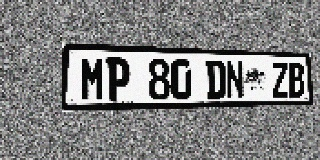0: (171, 59, 192, 100)
8: (148, 58, 170, 100)
B: (288, 62, 305, 97)
D: (206, 60, 225, 99)
M: (80, 57, 105, 102)
N: (225, 60, 244, 99)
P: (106, 57, 130, 101)
Z: (271, 62, 289, 98)
